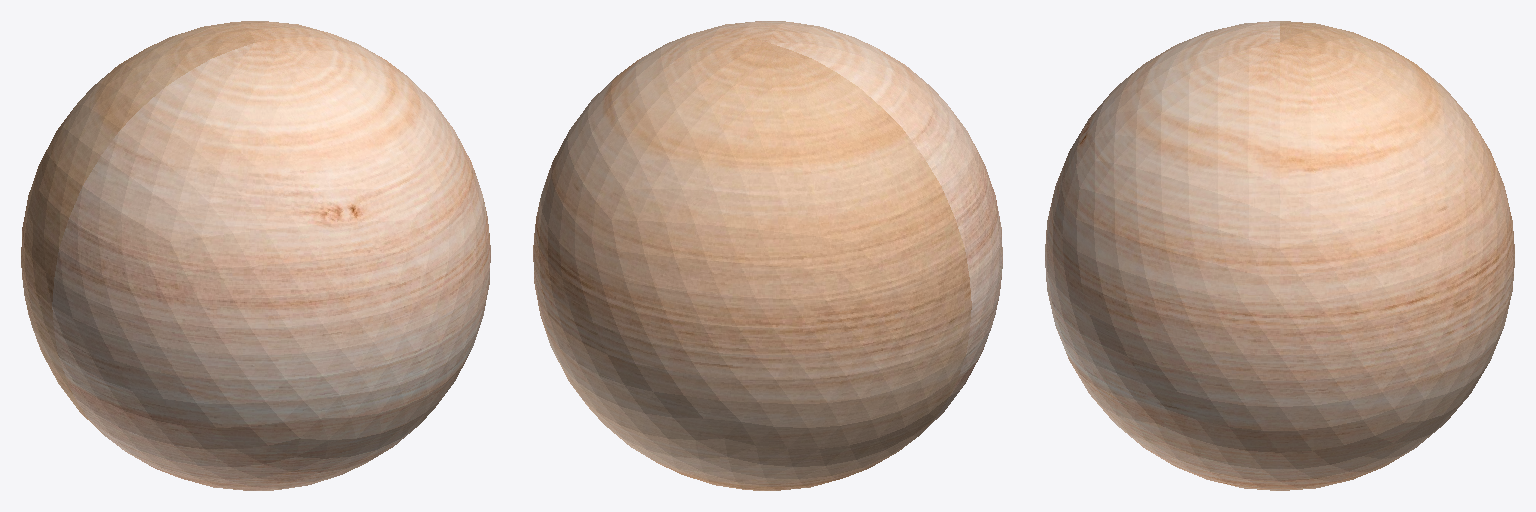
3 views of the same model, side by side, from view 1: azimuth 30°, elevation 25°; view 2: azimuth 150°, elevation 25°; view 3: azimuth 270°, elevation 25° (orthographic).
Parts seen in each view (by area): view 1: GeoSphere001; view 2: GeoSphere001; view 3: GeoSphere001.
Part boxes in pixels (x1,y1,x2,y2): GeoSphere001: (21,21,490,490); GeoSphere001: (533,21,1002,490); GeoSphere001: (1045,21,1514,490).
Bounding box in the file's own units: 0.3937 × 0.3938 × 0.3937.
Materials: 1 (1 with a texture image).